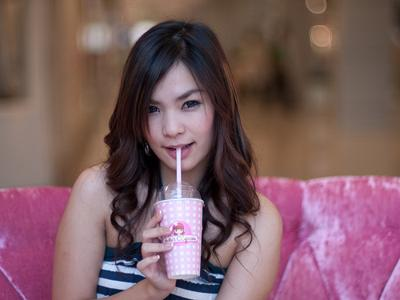person: (45, 17, 283, 300)
